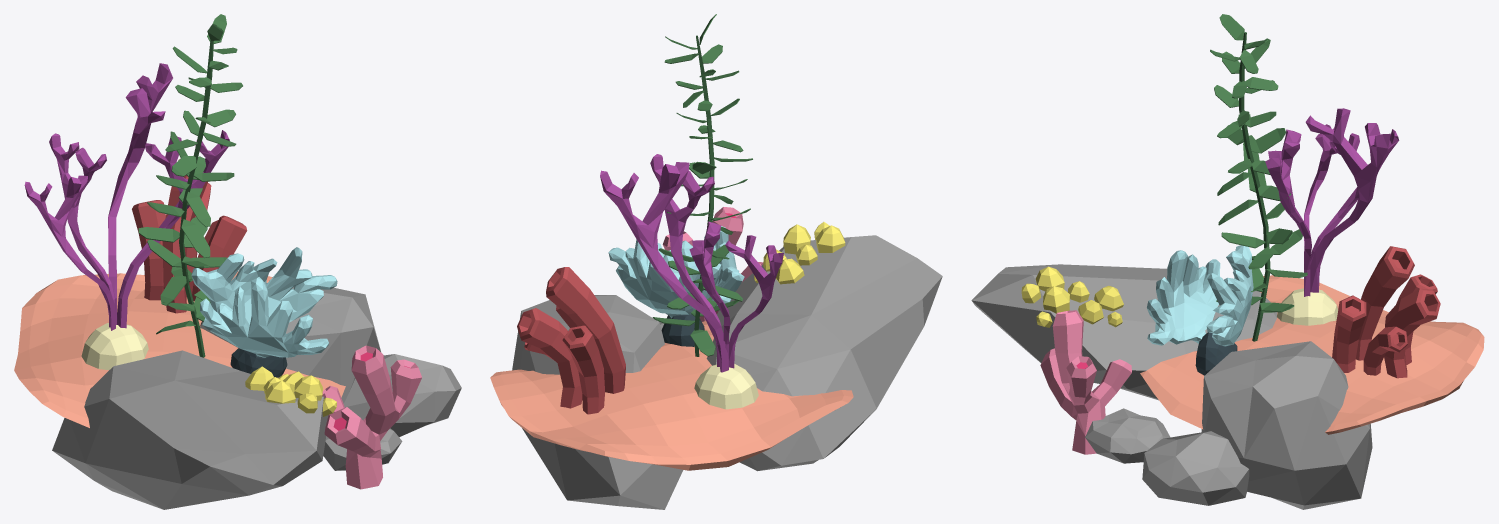
Rendered from Coral-7.glb.
3 renders of one model, left to right at view 1: azimuth 30°, elevation 25°; view 2: azimuth 150°, elevation 25°; view 3: azimuth 270°, elevation 25°, orthographic. The views are drawn at different scales.
Visible parts, largest first — view 1: Coral_reef_002; view 2: Coral_reef_002; view 3: Coral_reef_002.
Part boxes in pixels (box(x1,y1,x2,y2)): Coral_reef_002: box(14, 14, 461, 509); Coral_reef_002: box(490, 14, 942, 509); Coral_reef_002: box(971, 14, 1484, 509).
Bounding box in the file's own units: 2.97 × 3.78 × 3.75.
Materials: 1 (1 with a texture image).
